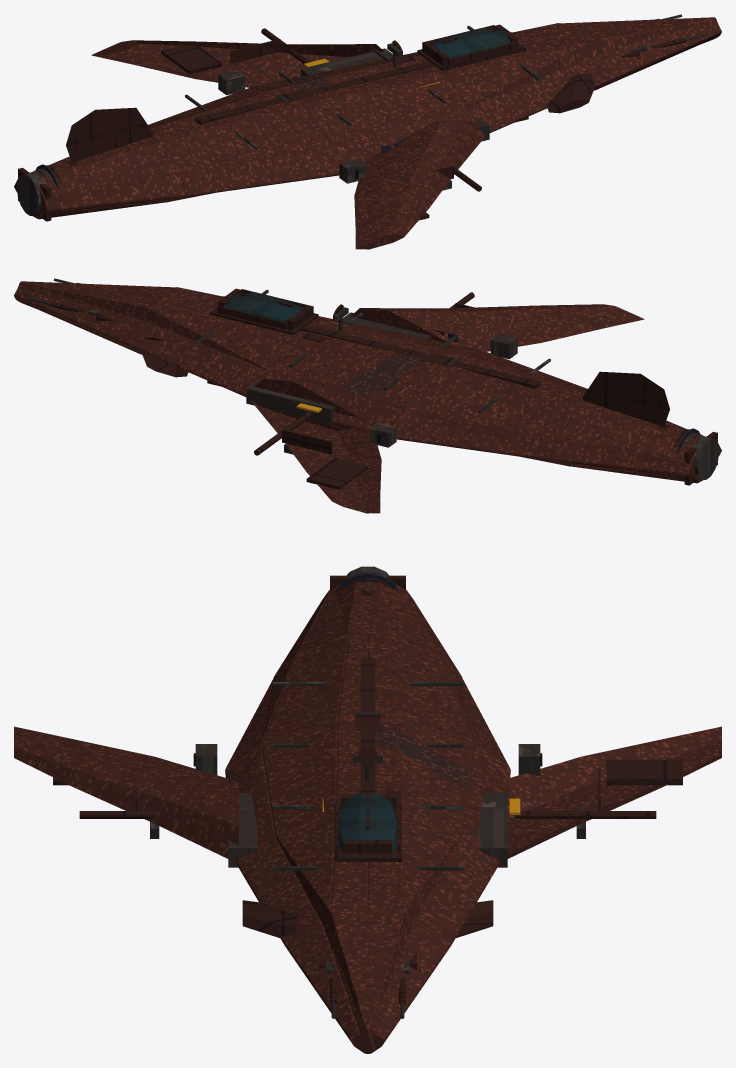
File: ashline_dart_production_v1_lod2.glb
The picture shows the model from 3 angles, top to bottom: view 1: azimuth 30°, elevation 25°; view 2: azimuth 150°, elevation 25°; view 3: azimuth 270°, elevation 25°; orthographic projection. The views are drawn at different scales.
Parts seen in each view (by area): view 1: LOD2_Hull, LOD2_Armor, LOD2_Mechanical, LOD2_Canopy; view 2: LOD2_Hull, LOD2_Armor, LOD2_Mechanical, LOD2_Canopy; view 3: LOD2_Hull, LOD2_Armor, LOD2_Mechanical, LOD2_Canopy.
Part boxes in pixels (x1,y1,x2,y2): LOD2_Hull: (14, 17, 721, 249); LOD2_Armor: (18, 18, 686, 221); LOD2_Mechanical: (16, 14, 707, 215); LOD2_Canopy: (430, 28, 511, 58); LOD2_Hull: (14, 281, 721, 513); LOD2_Armor: (49, 282, 717, 489); LOD2_Mechanical: (28, 278, 719, 479); LOD2_Canopy: (224, 292, 305, 322); LOD2_Hull: (14, 571, 721, 1053); LOD2_Armor: (53, 575, 682, 1004); LOD2_Mechanical: (150, 566, 585, 1018); LOD2_Canopy: (338, 793, 397, 855).
Size of what is drawn, in the model's own units: 11.7 by 1.66 by 7.8.
Materials: 8 (8 with a texture image).
